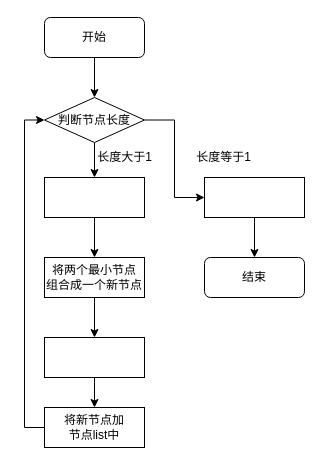
Some shapes in this 322 by 465 pixel diagram are drawn without their labels. The box of each missing label's shape, as (x1, y1, x2, y2) in pixels:
对节点排序: (44, 176, 144, 218)
返回根节点: (204, 176, 304, 218)
连接新节点和 最小节点并删除: (44, 336, 144, 378)
